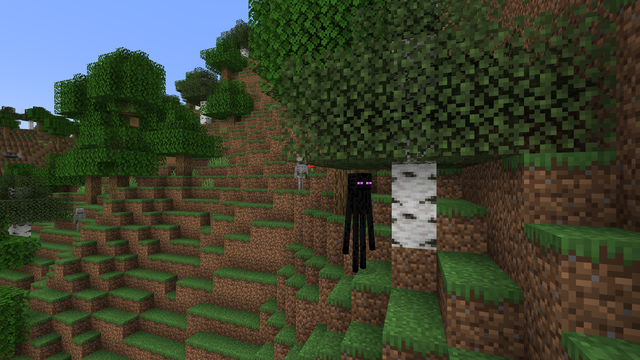endermens: (346, 169, 370, 272)
squelettes: (294, 165, 306, 189), (73, 208, 85, 231)
